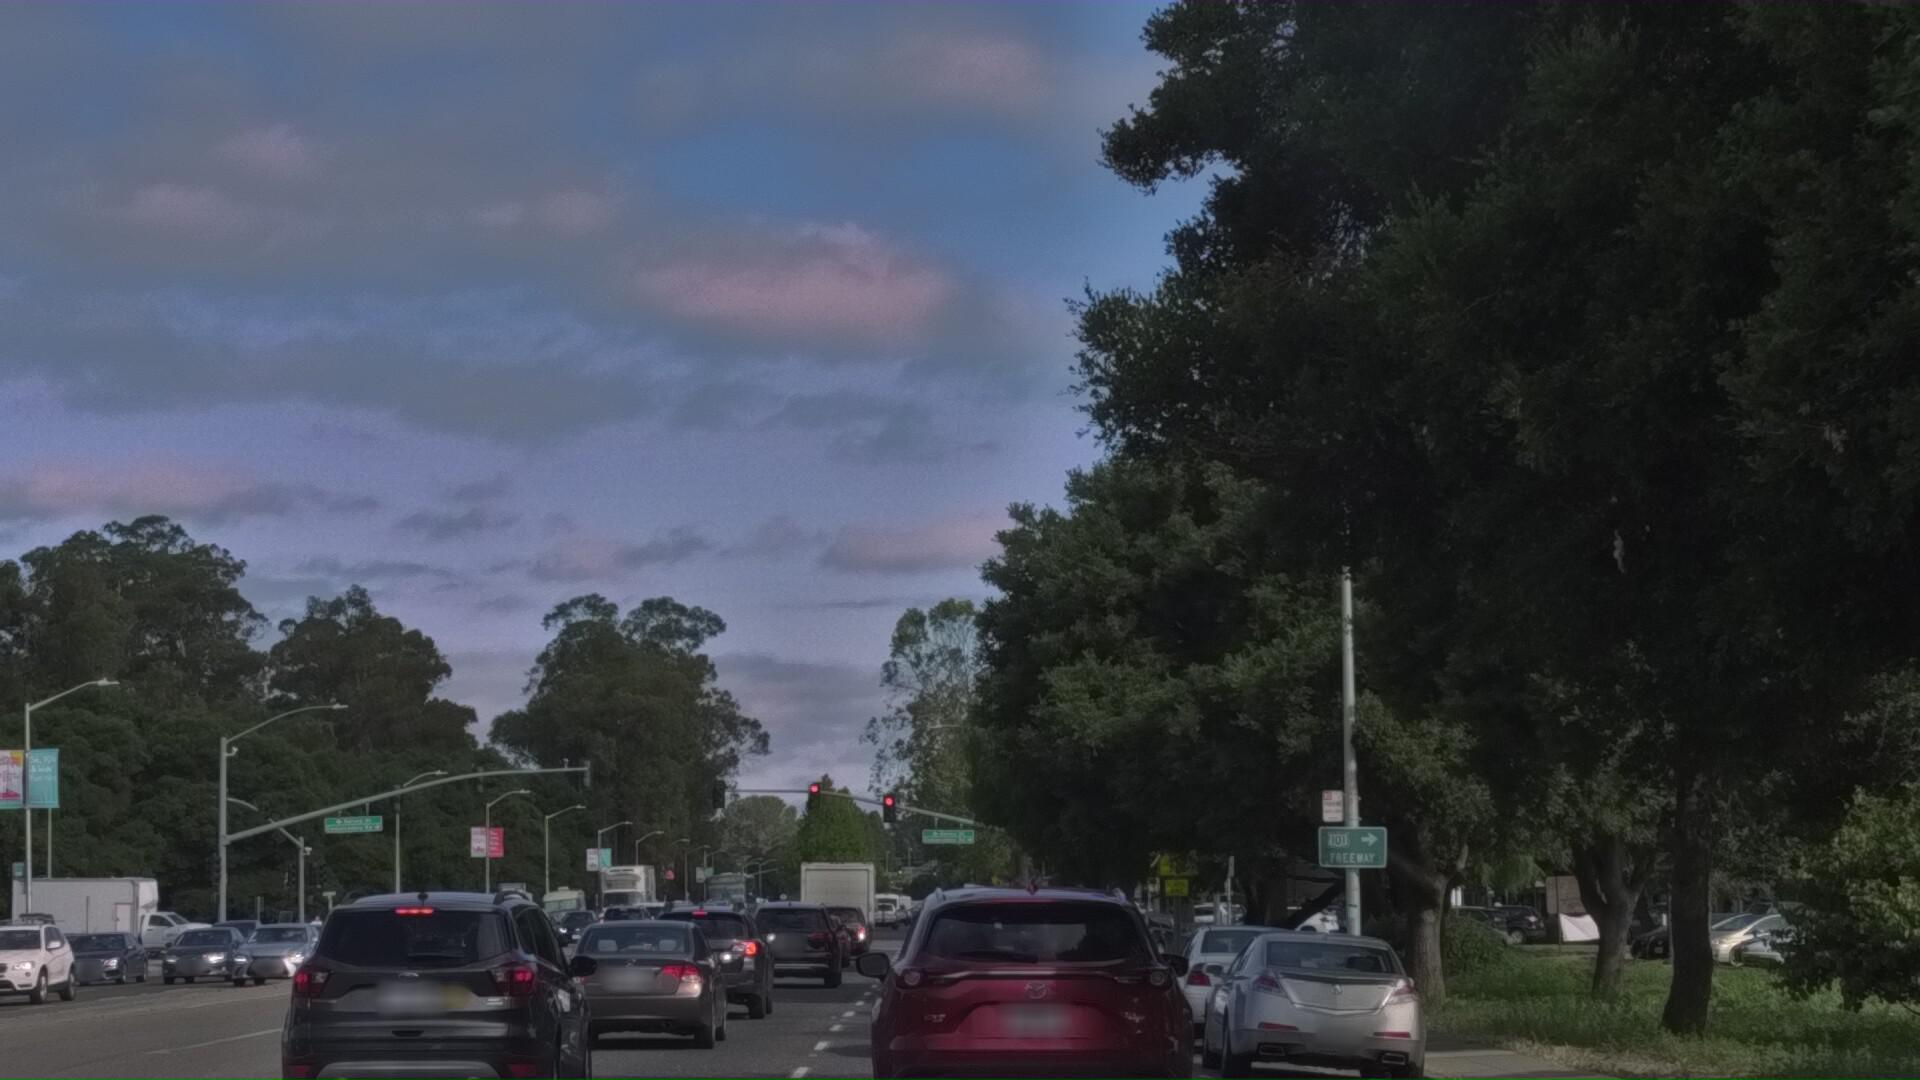car: (843, 959, 1228, 1080), (252, 967, 604, 1080), (1189, 1004, 1437, 1080), (1153, 1005, 1332, 1080), (547, 1015, 746, 1080), (621, 1004, 786, 1080), (725, 1007, 844, 1080), (208, 1022, 328, 1080), (0, 1019, 83, 1080)
